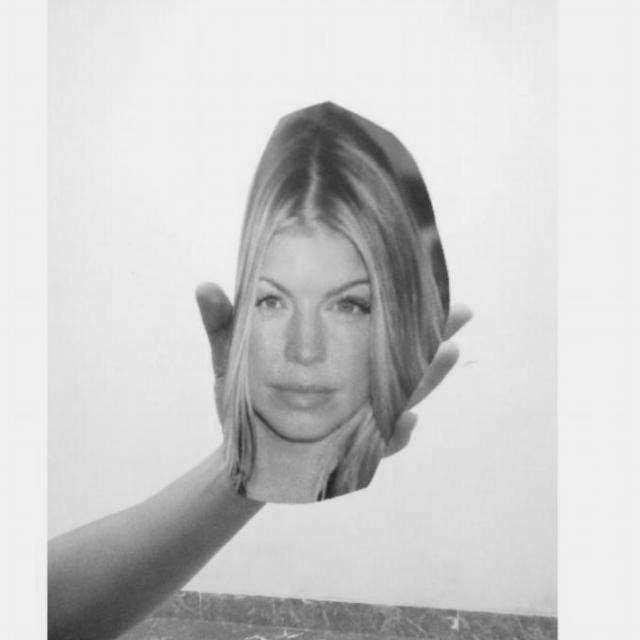fake: (190, 83, 486, 529)
